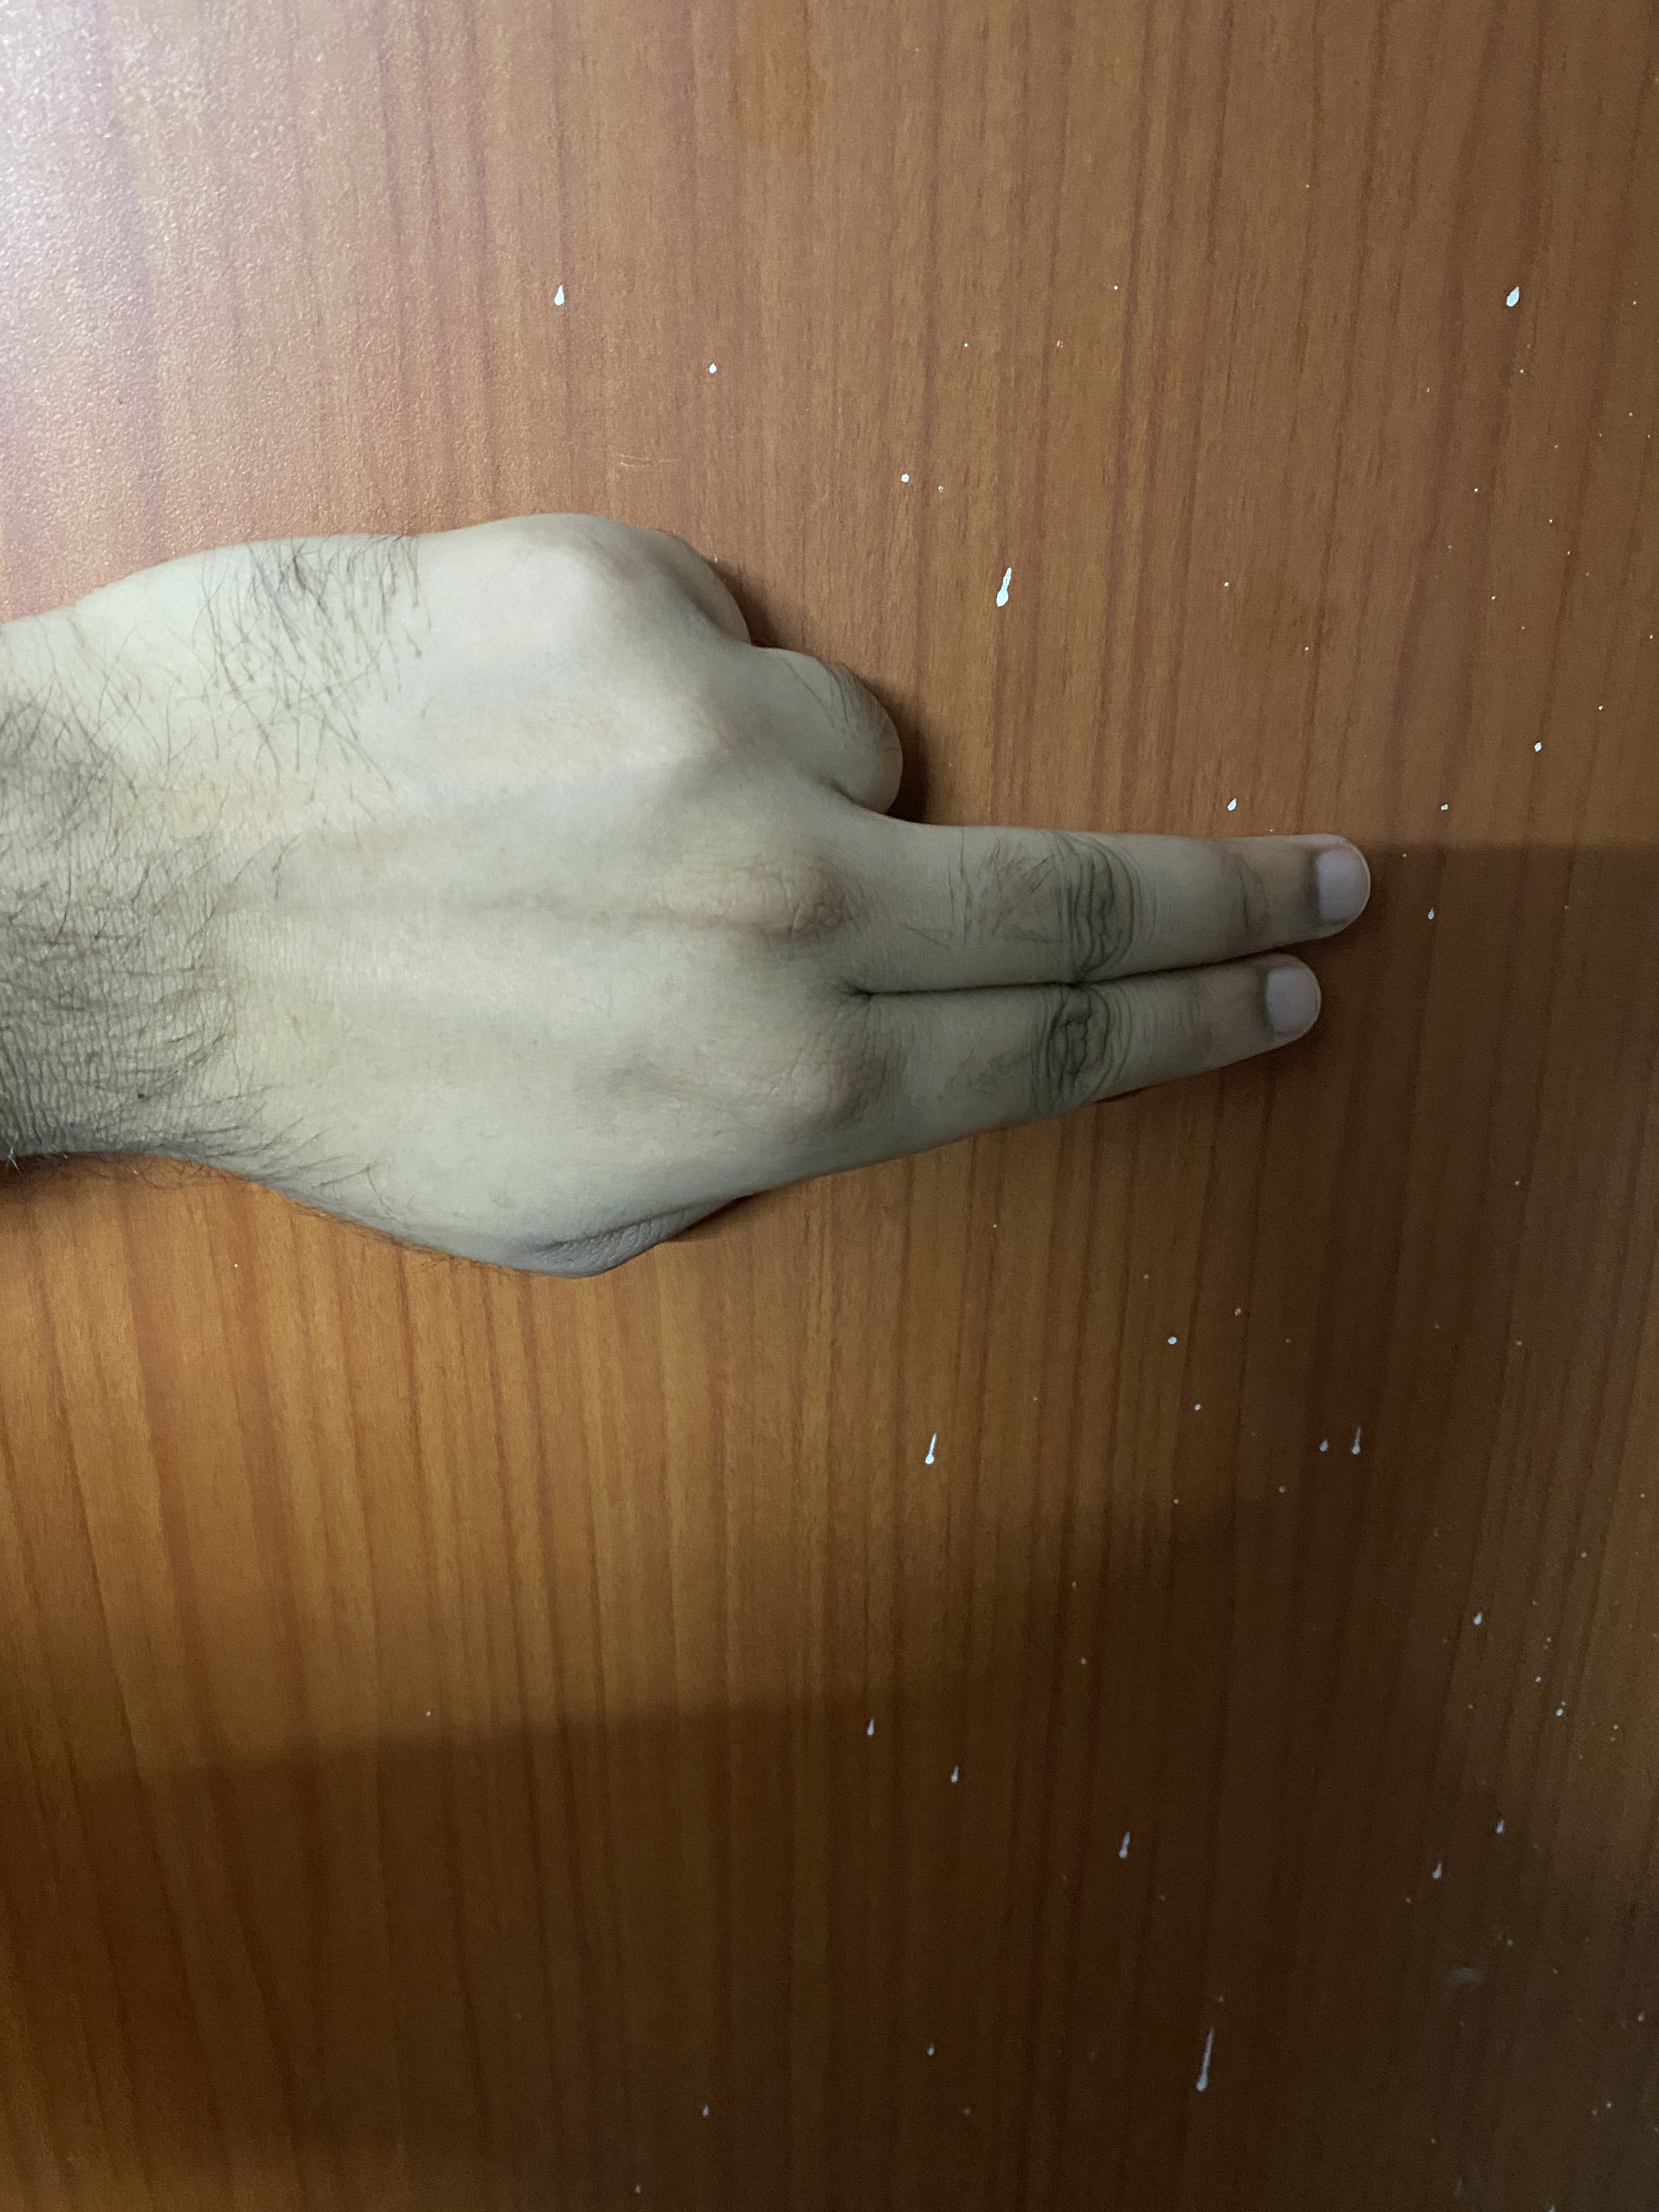left: (7, 510, 1551, 1360)
